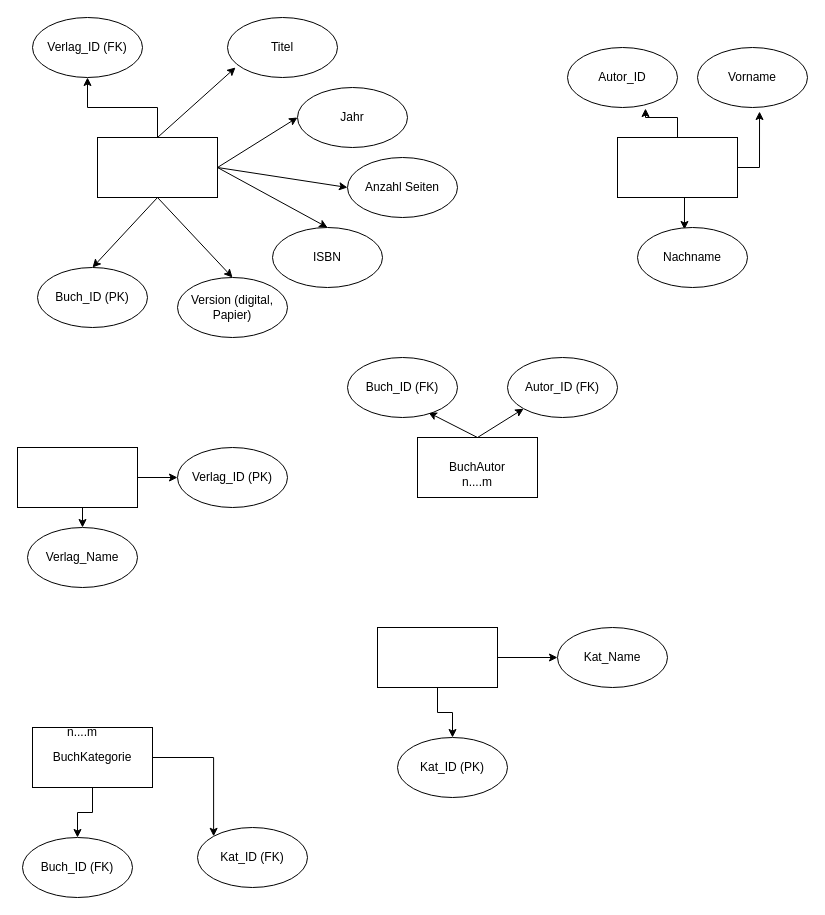
The diagram is 825 pixels wide and 915 high, and some of its shapes have lost their labels. The shapes that lost their labels are listed below. From the top down, each one's centre as x and y in pixels, then its label:
[157,167]: Buch
[677,167]: Autor
[77,477]: Verlag
[437,657]: Kategorie
